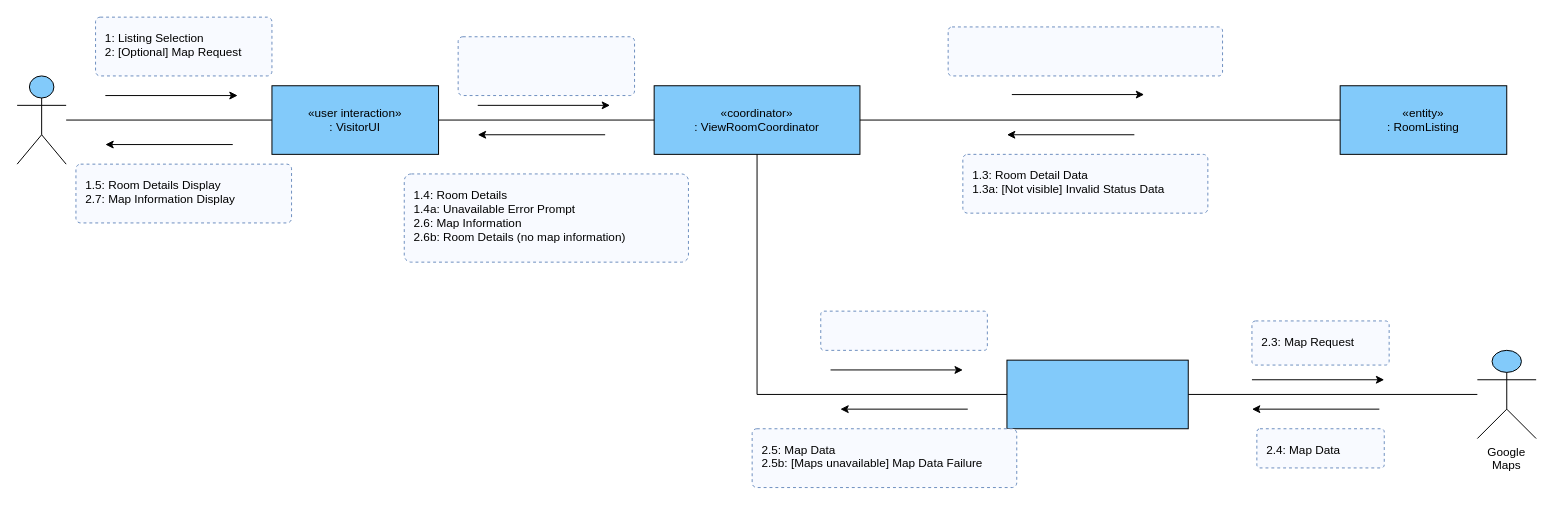
This 1553x505 diagram has some shape labels left out. Each missing label, with the centre of its shape:
1.1: Room Detail Request 2.1: Map Info Request: the point at 546,66
1.2: Room Detail Query (with Visibility Check): the point at 1085,51
2.2: Map Data Request: the point at 903,330
Visitor: the point at 41,119
«proxy» : GoogleMapsProxy: the point at 1097,394
